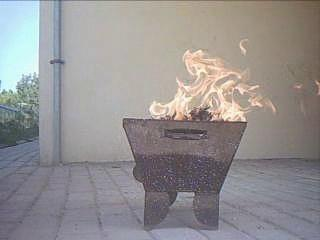fire: (148, 49, 283, 122)
